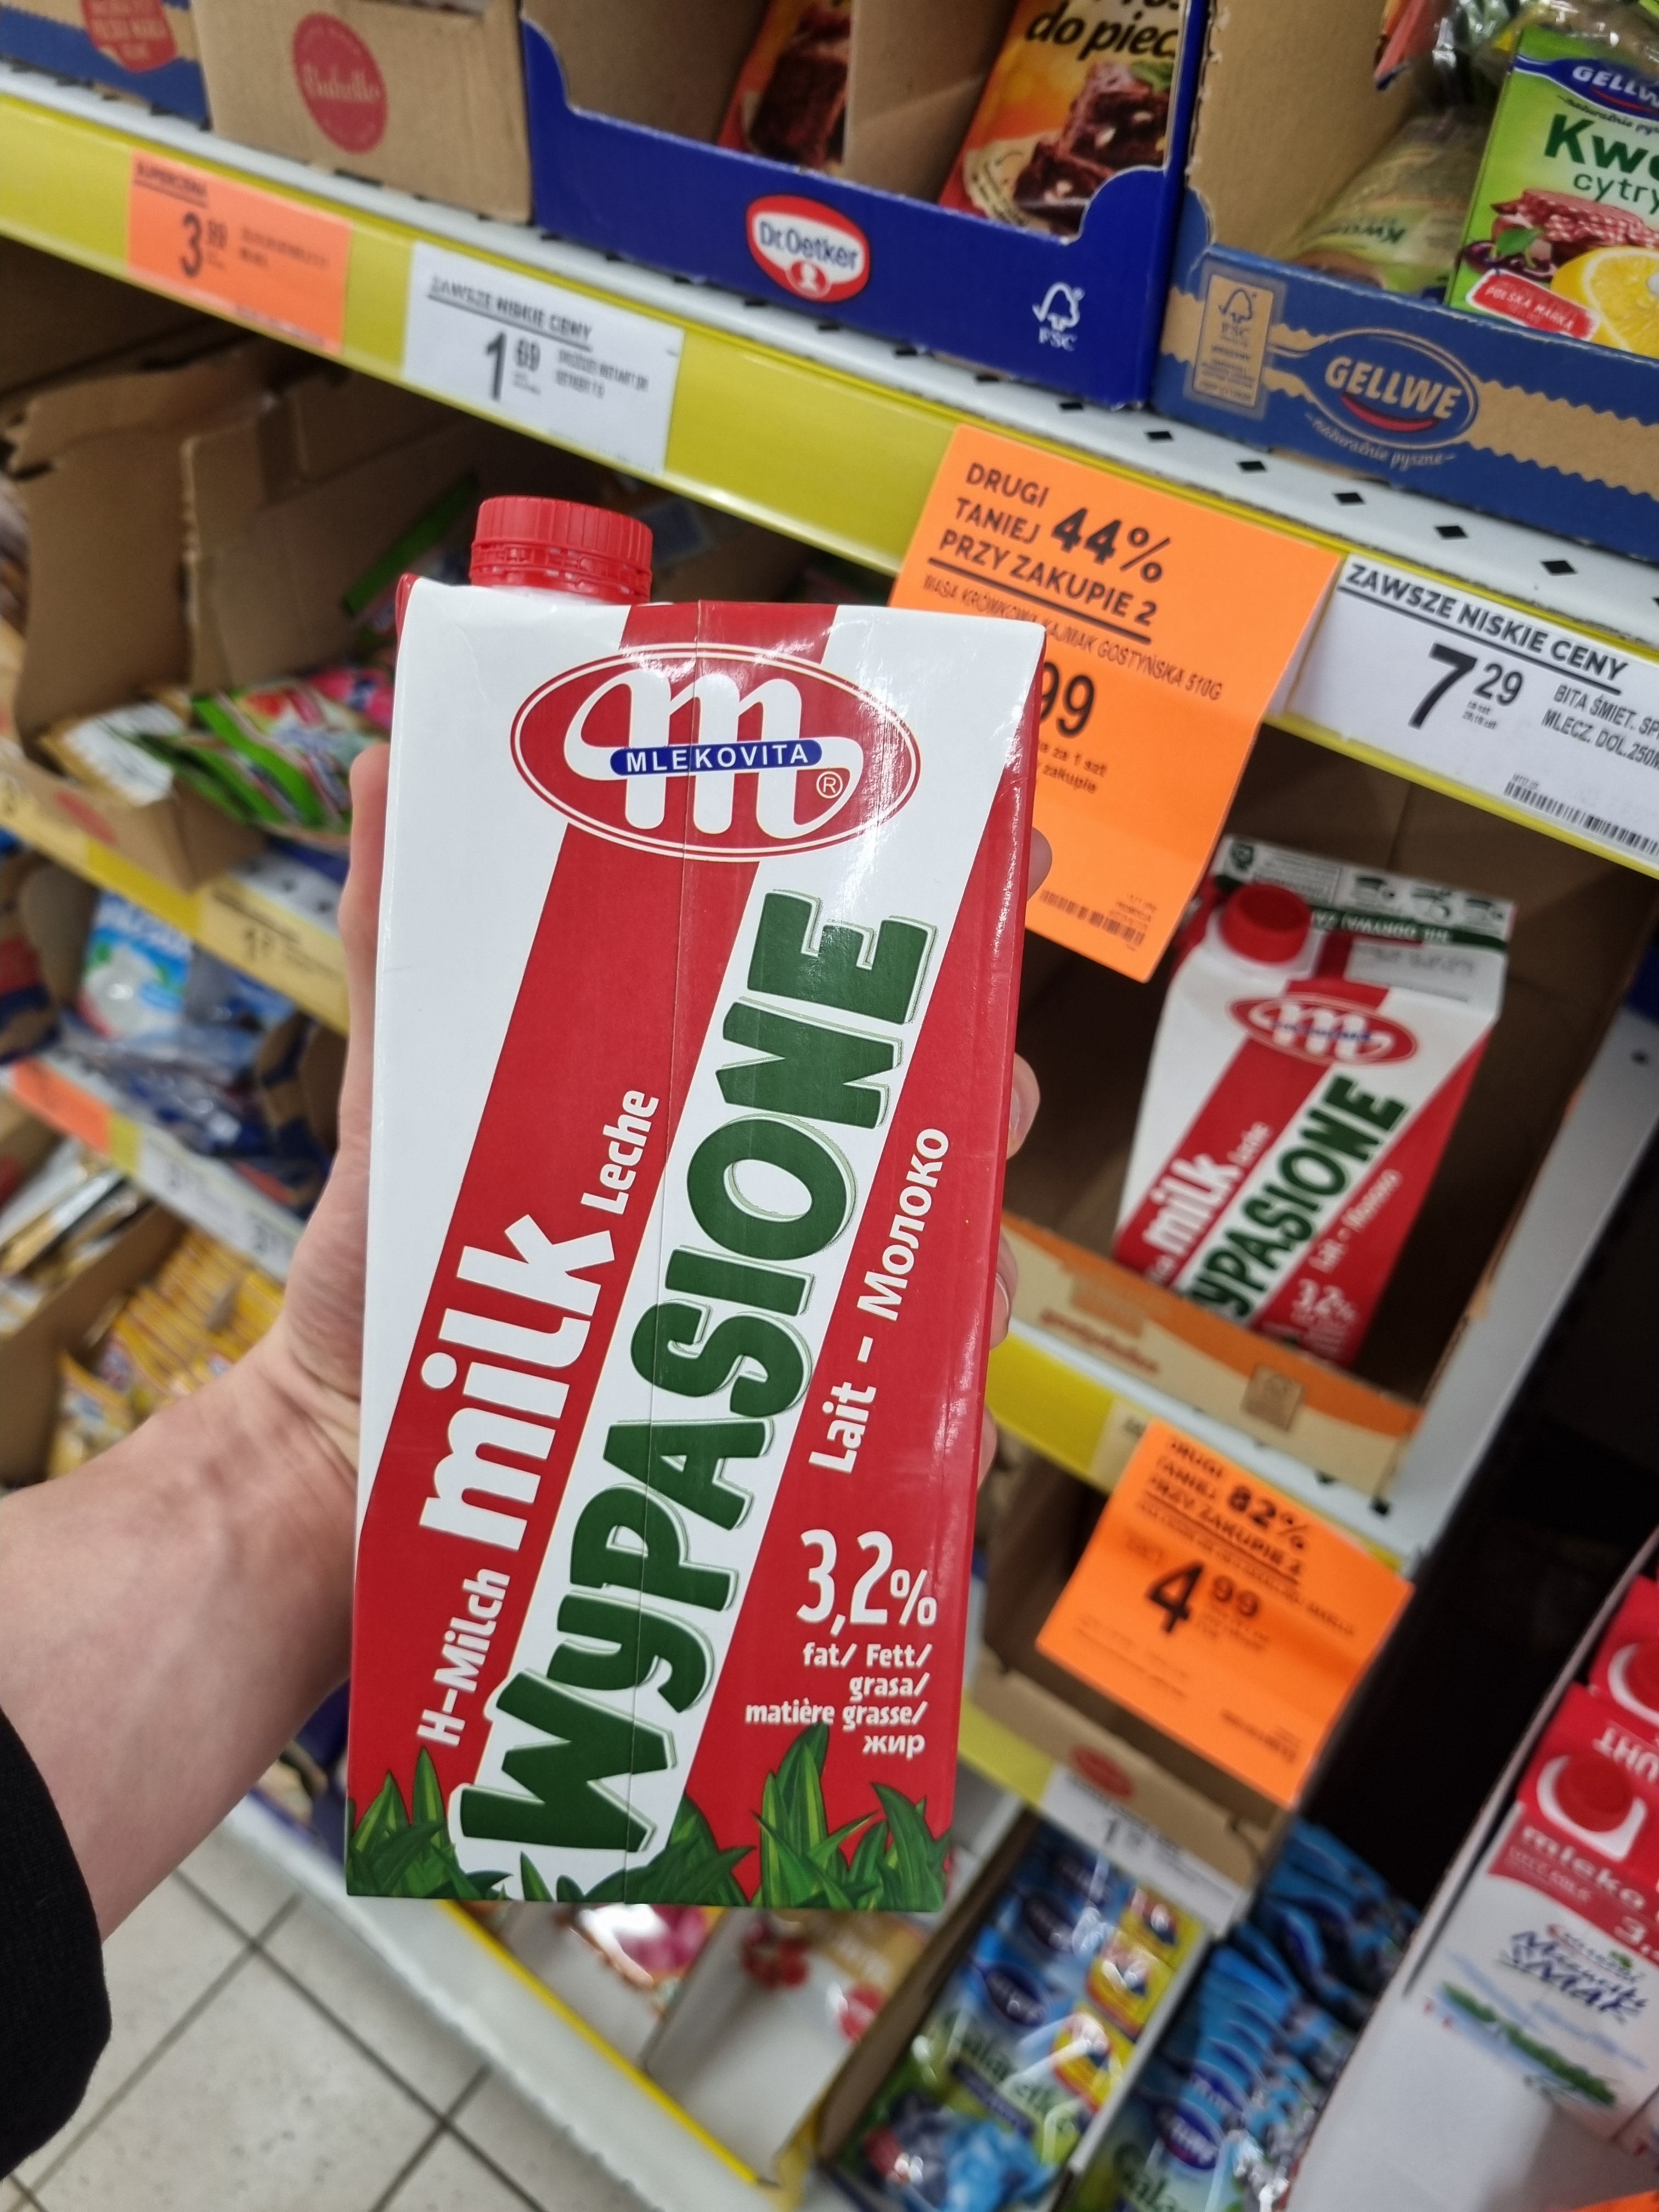Milk: (359, 523, 993, 1907), (1110, 820, 1520, 1369)
